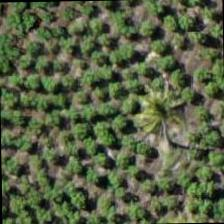Kelapa_Sawit: (120, 52, 212, 144)
